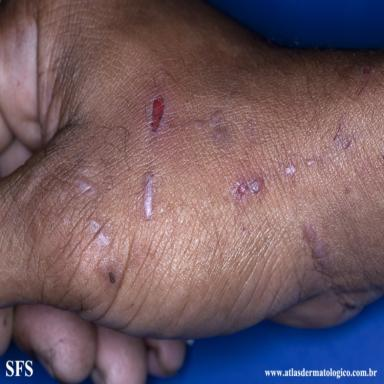lichen: (302, 223, 333, 275), (195, 109, 234, 147), (97, 260, 122, 294), (233, 175, 265, 199), (89, 218, 110, 247), (143, 172, 154, 220), (151, 96, 164, 131), (75, 175, 95, 196), (285, 163, 296, 175), (306, 156, 316, 166)
